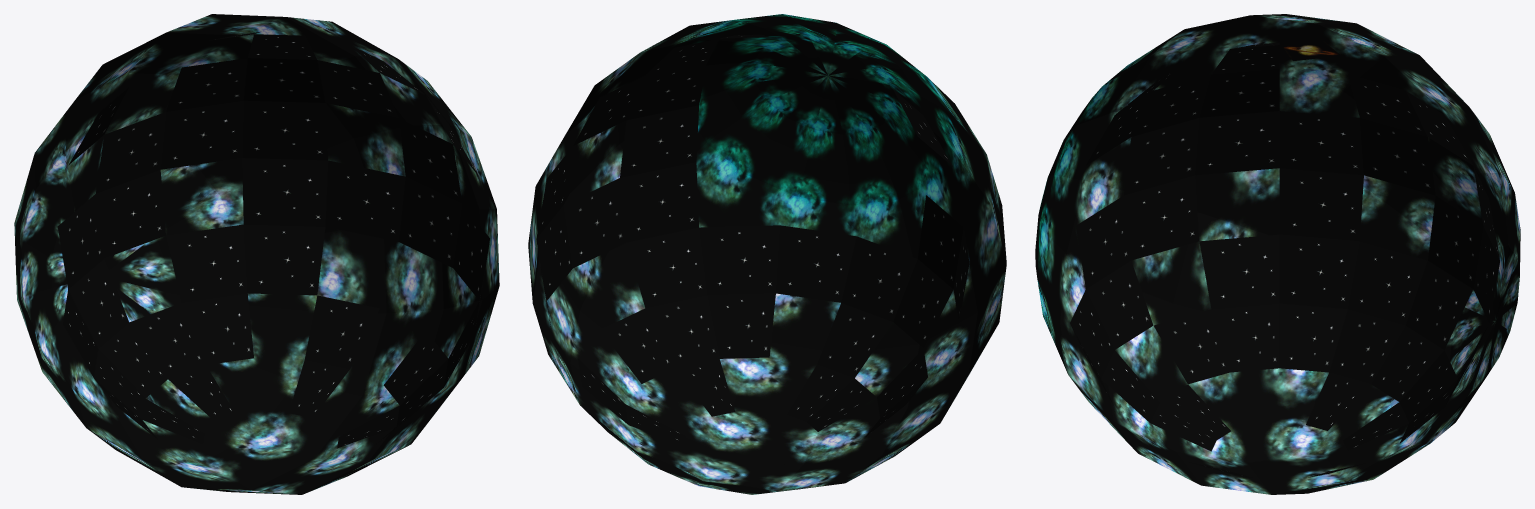
Rendered from vrcorn.glb.
The picture shows the model from 3 angles, left to right: view 1: azimuth 30°, elevation 25°; view 2: azimuth 150°, elevation 25°; view 3: azimuth 270°, elevation 25°; orthographic projection.
Parts seen in each view (by area): view 1: polygon0, polygon1; view 2: polygon0, polygon1; view 3: polygon1, polygon0, polygon2.
Part boxes in pixels (left/top/right/bottom): polygon0: left=14, top=14, right=499, bottom=494; polygon1: left=57, top=32, right=489, bottom=448; polygon0: left=528, top=14, right=1006, bottom=494; polygon1: left=536, top=34, right=969, bottom=446; polygon1: left=1070, top=42, right=1499, bottom=477; polygon0: left=1035, top=14, right=1520, bottom=494; polygon2: left=1282, top=39, right=1341, bottom=60.
Bounding box in the file's own units: 5100 × 5056 × 5089.
3 materials, 3 textured.
